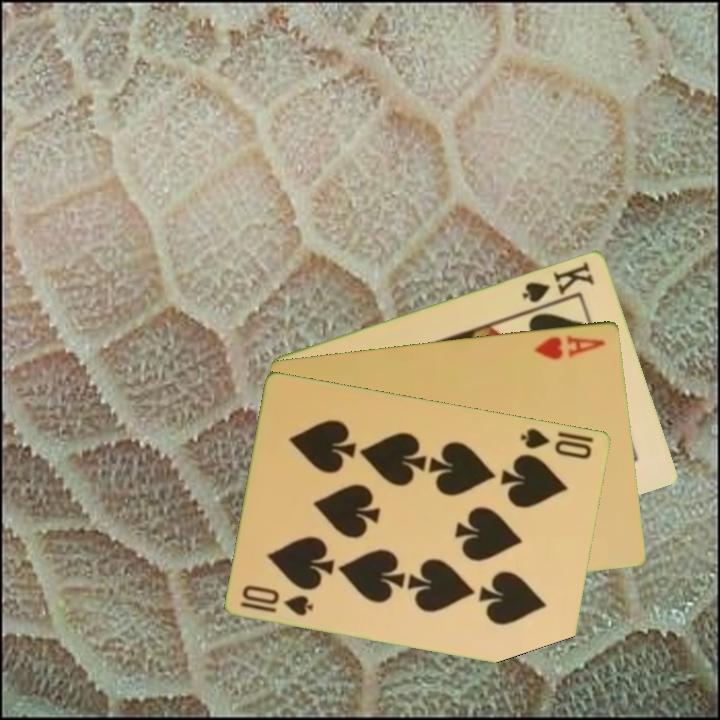10s: (237, 581, 317, 619), (517, 424, 595, 462)
Ah: (531, 331, 609, 362)
Ks: (518, 257, 598, 312)
